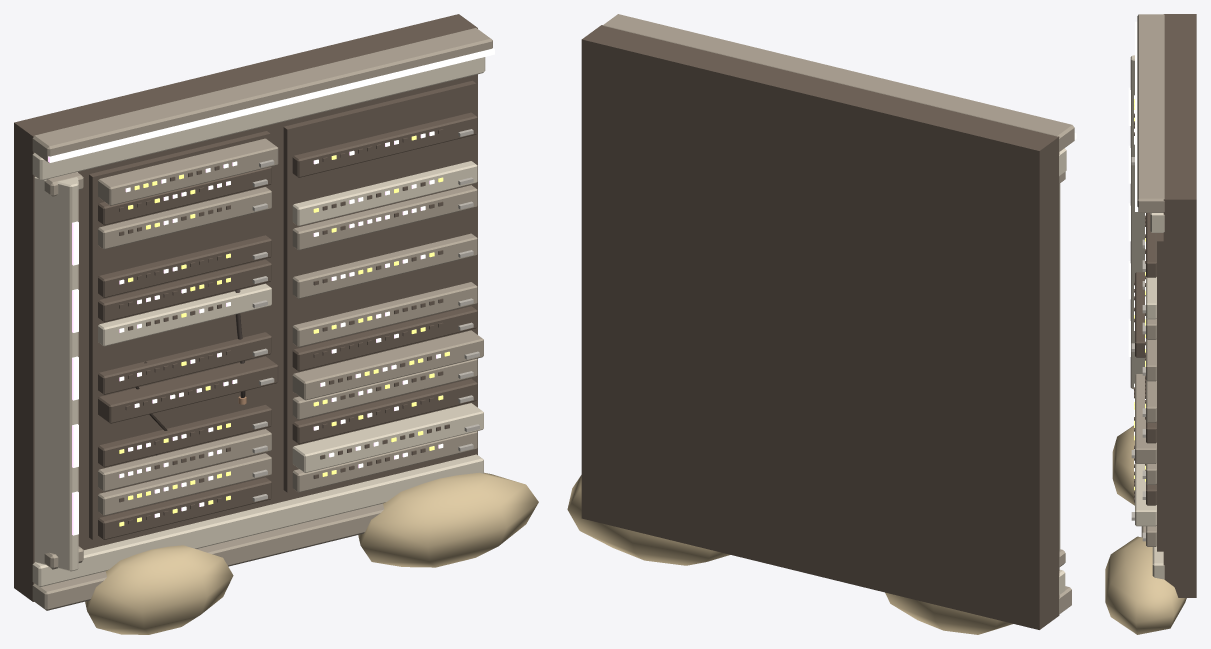
The model's file is wall_du_rack.glb.
3 renders of one model, left to right at view 1: azimuth 30°, elevation 25°; view 2: azimuth 150°, elevation 25°; view 3: azimuth 270°, elevation 25°, orthographic. The views are drawn at different scales.
Visible parts, largest first — view 1: wall_du_rack; view 2: wall_du_rack; view 3: wall_du_rack.
Boxes of the visible parts, <box> form: wall_du_rack: <box>14,14,538,634</box>; wall_du_rack: <box>567,14,1076,634</box>; wall_du_rack: <box>1105,14,1196,634</box>.
Bounding box in the file's own units: 4.41 × 4.41 × 0.8306.
